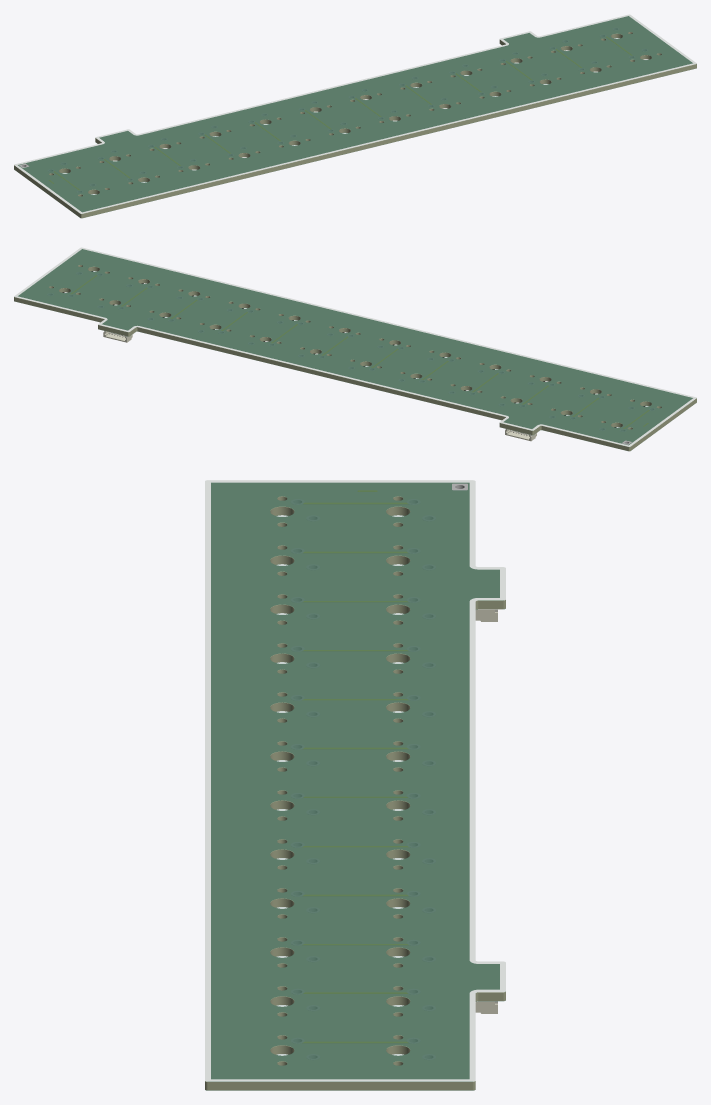
The picture shows the model from 3 angles, top to bottom: view 1: azimuth 30°, elevation 25°; view 2: azimuth 150°, elevation 25°; view 3: azimuth 270°, elevation 25°; orthographic projection. The views are drawn at different scales.
Visible parts, largest first — view 1: =>[0:1:1:15], =>[0:1:1:13], =>[0:1:1:11], =>[0:1:1:9]; view 2: =>[0:1:1:15], =>[0:1:1:13], =>[0:1:1:11], =>[0:1:1:9]; view 3: =>[0:1:1:13], =>[0:1:1:15], =>[0:1:1:11], =>[0:1:1:9], =>[0:1:1:8].
Part boxes in pixels (bbox=[...]): =>[0:1:1:15]: bbox=[14, 16, 696, 218]; =>[0:1:1:13]: bbox=[17, 16, 696, 213]; =>[0:1:1:11]: bbox=[14, 14, 696, 213]; =>[0:1:1:9]: bbox=[19, 28, 647, 192]; =>[0:1:1:15]: bbox=[14, 249, 696, 451]; =>[0:1:1:13]: bbox=[14, 249, 693, 446]; =>[0:1:1:11]: bbox=[14, 247, 696, 446]; =>[0:1:1:9]: bbox=[47, 272, 654, 444]; =>[0:1:1:13]: bbox=[207, 482, 505, 1081]; =>[0:1:1:15]: bbox=[205, 483, 505, 1090]; =>[0:1:1:11]: bbox=[205, 480, 505, 1081]; =>[0:1:1:9]: bbox=[291, 483, 467, 1059]; =>[0:1:1:8]: bbox=[304, 491, 407, 1042].
Size of the model in its own units: 0.234 by 0.00463 by 0.0495.
